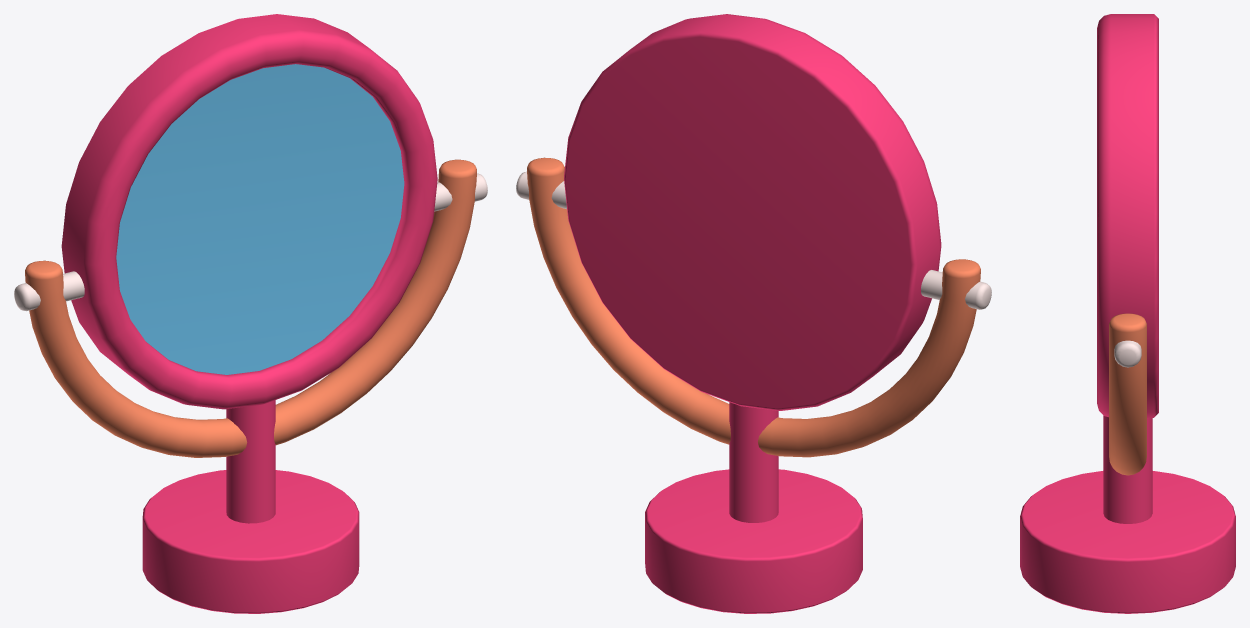
The model's file is Store_17_Mirror_1.glb.
The picture shows the model from 3 angles, left to right: view 1: azimuth 30°, elevation 25°; view 2: azimuth 150°, elevation 25°; view 3: azimuth 270°, elevation 25°; orthographic projection.
Visible parts, largest first — view 1: Store_17_Mirror_1; view 2: Store_17_Mirror_1; view 3: Store_17_Mirror_1.
Part boxes in pixels (box(x1,y1,x2,y2)): Store_17_Mirror_1: box(14, 14, 487, 613); Store_17_Mirror_1: box(516, 14, 991, 613); Store_17_Mirror_1: box(1020, 14, 1235, 613).
Bounding box in the file's own units: 1.41 × 1.57 × 0.5721.
1 material, 1 textured.
